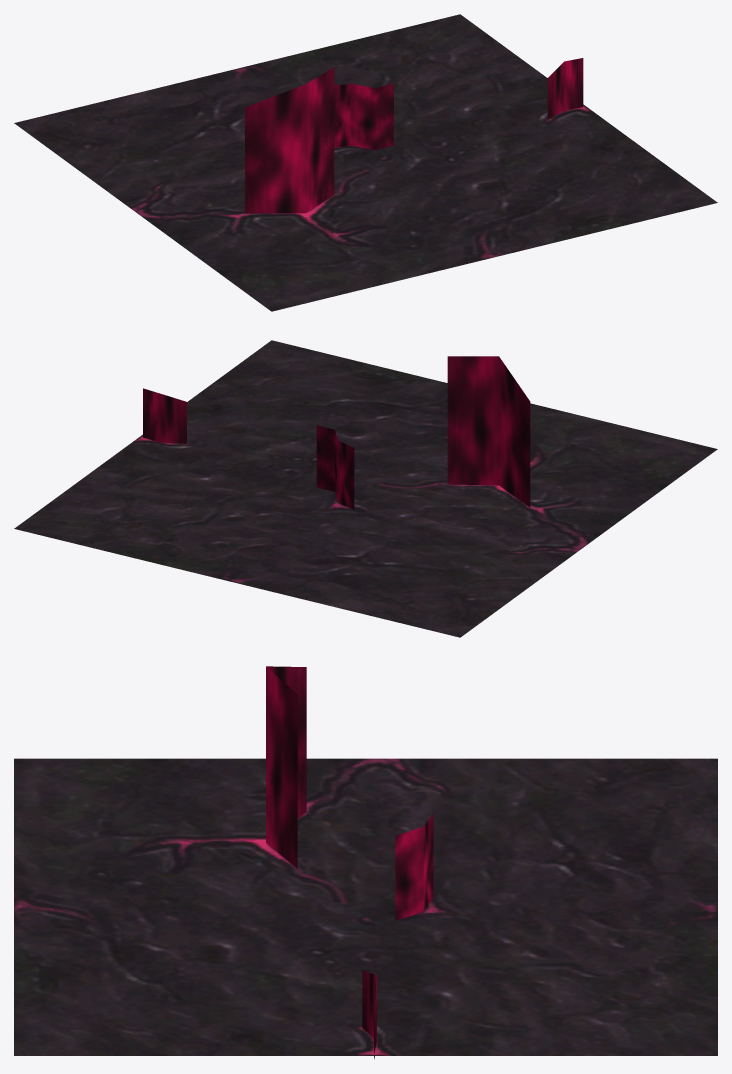
Rendered from cave_floor_blank_02.fbx.
The picture shows the model from 3 angles, top to bottom: view 1: azimuth 30°, elevation 25°; view 2: azimuth 150°, elevation 25°; view 3: azimuth 270°, elevation 25°; orthographic projection. The views are drawn at different scales.
Parts seen in each view (by area): view 1: cave_floor_blank_02-0; view 2: cave_floor_blank_02-0; view 3: cave_floor_blank_02-0.
Part boxes in pixels (bbox=[...]): cave_floor_blank_02-0: bbox=[14, 14, 717, 311]; cave_floor_blank_02-0: bbox=[14, 340, 717, 637]; cave_floor_blank_02-0: bbox=[14, 666, 717, 1059].
Bounding box in the file's own units: 4 × 1.14 × 4.
